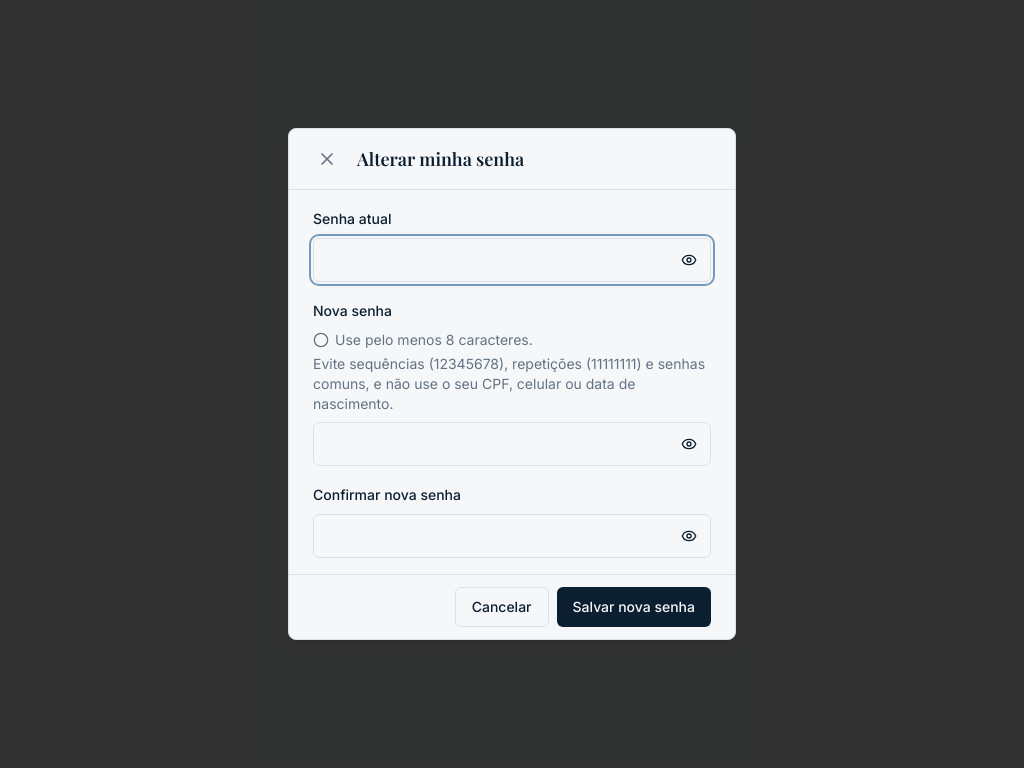
T3 › UX-08: os três vazios
Click the button "Salvar nova senha". click: x=634, y=607
box: [556,587,711,627]
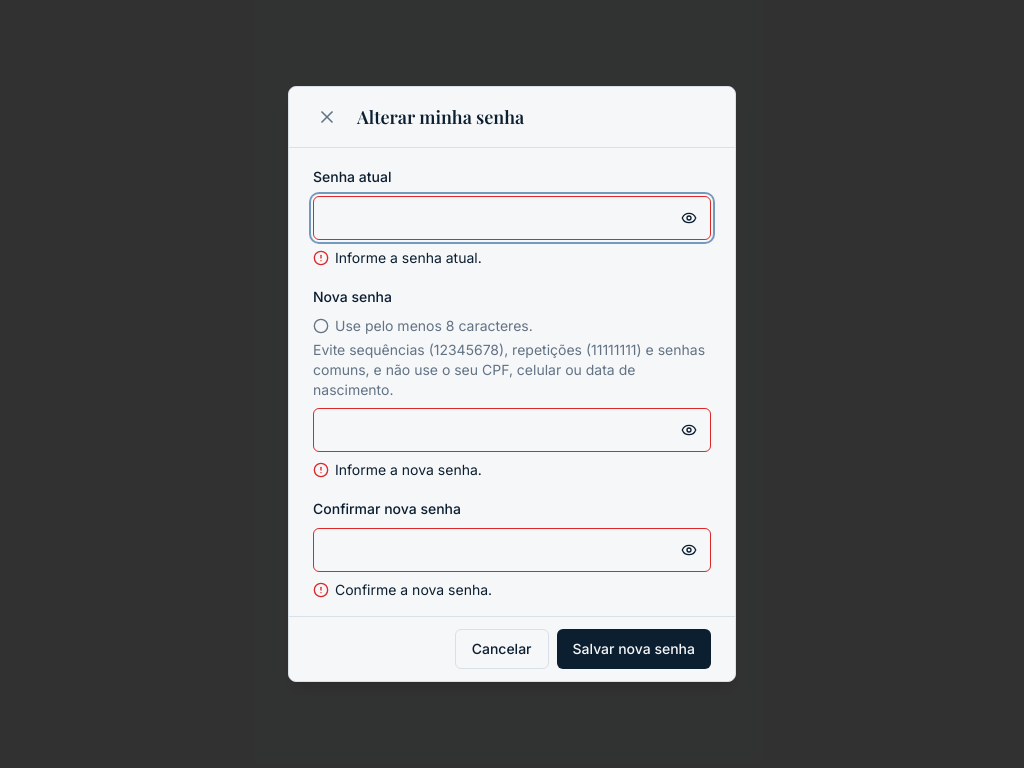
Check: the text "Informe a senha atual." is shown, box [335,248,482,268]
Check: the text "Informe a nova senha." is shown, box [335,460,482,480]
Check: the text "Confirme a nova senha." is shown, box [335,580,492,600]
